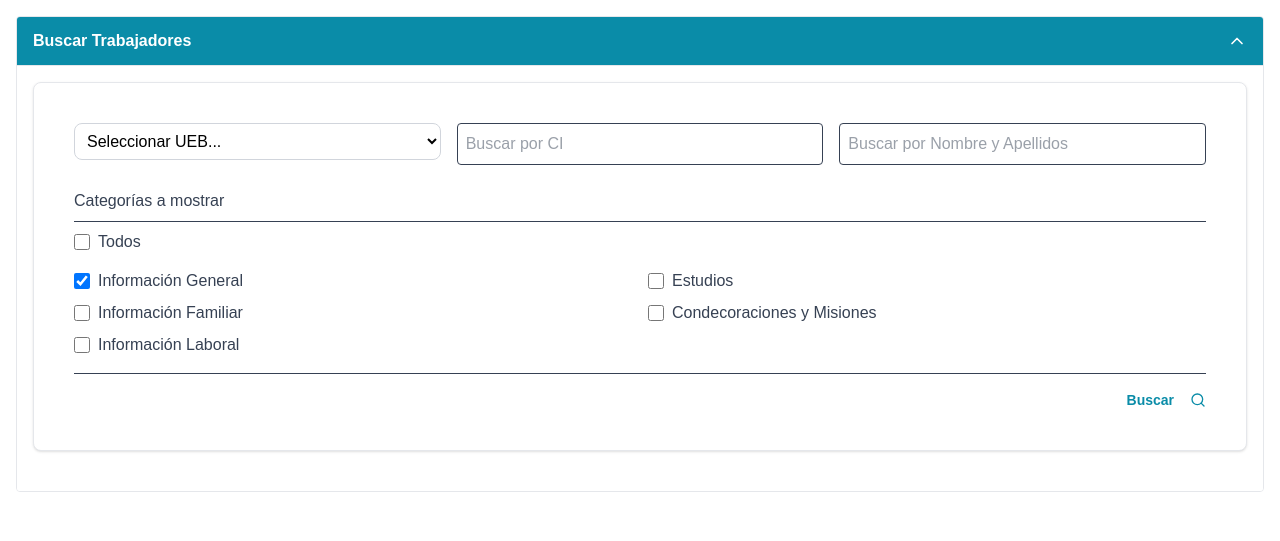
Test: BuscarTrabajador - Main Component › renders error when API fails
Select "AICA" in the dropdown at (257, 142), box [74, 123, 441, 160]
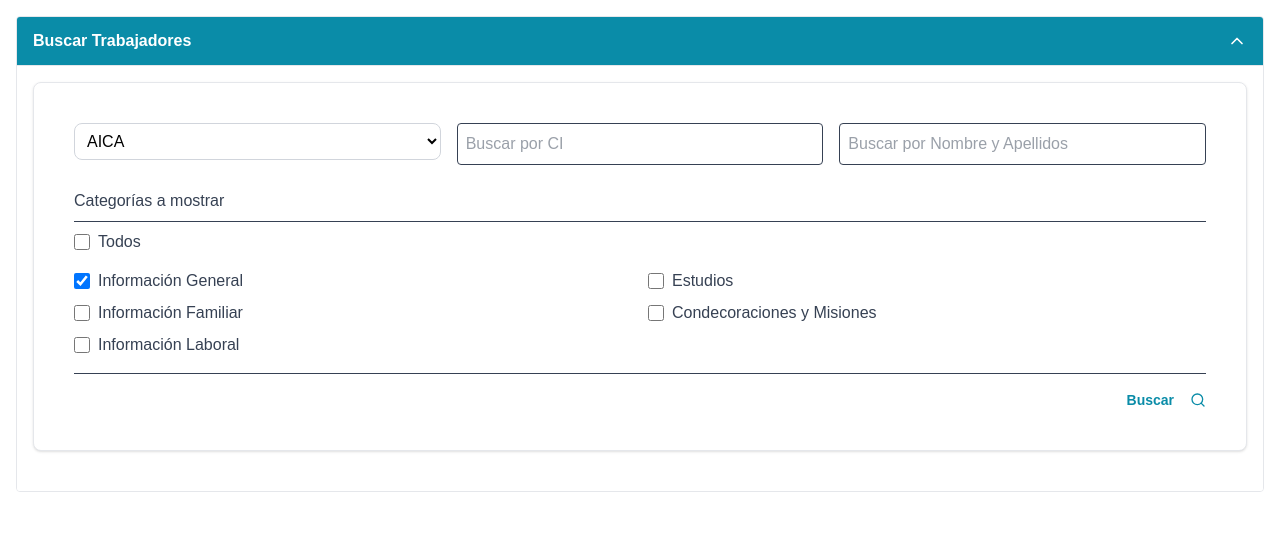
Type "123123" into the number field with placeholder "Buscar por CI" at (640, 144), box [457, 123, 823, 165]
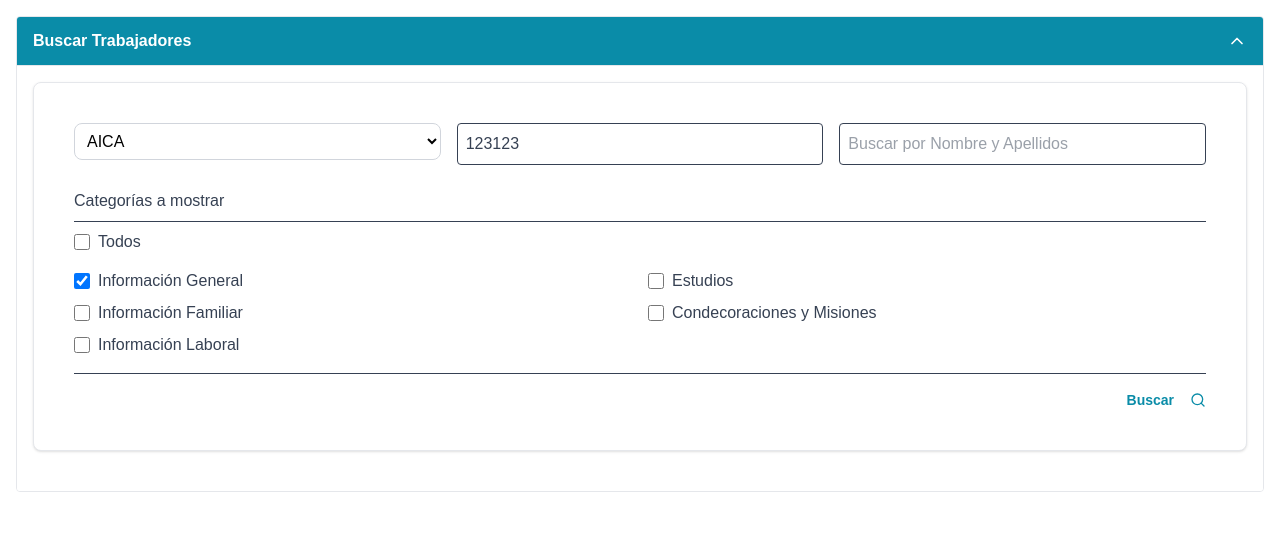
Click the button "Buscar" at (1166, 400), box [1126, 390, 1206, 410]
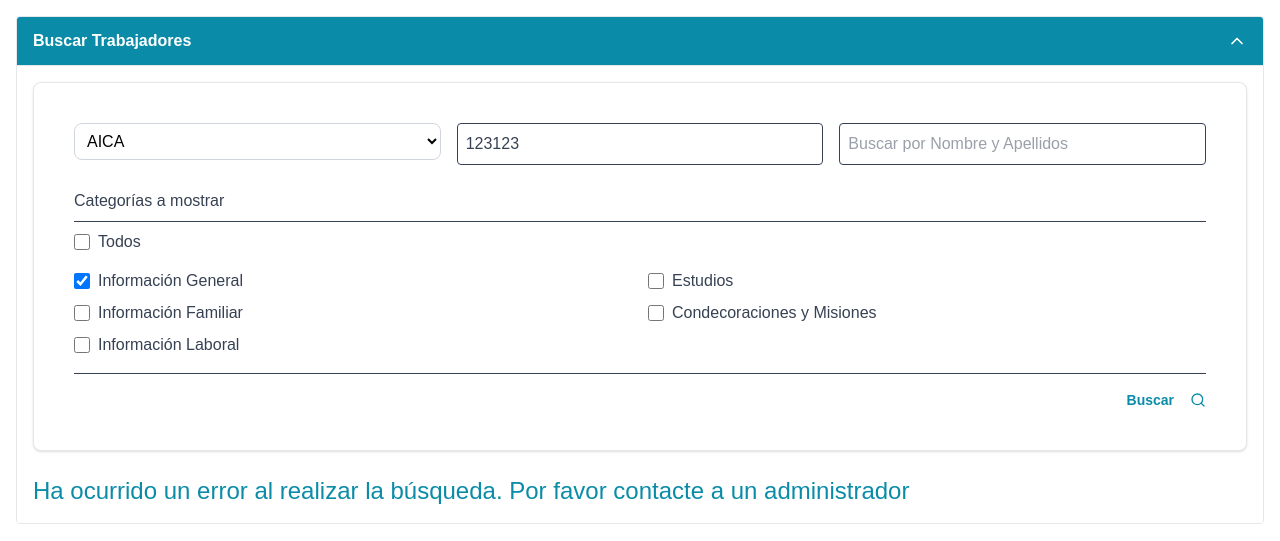
Expected: the text "Ha ocurrido un error al realizar la búsqueda. Por favor contacte a un administrador" is shown, [33, 477, 910, 504]
